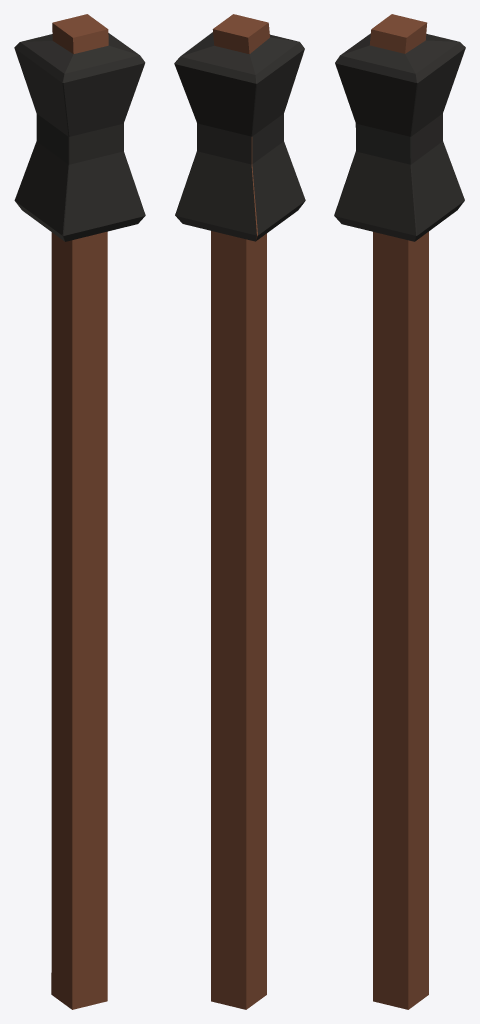
File: artillery_ramrot.fbx
3 views of the same model, side by side, from view 1: azimuth 30°, elevation 25°; view 2: azimuth 150°, elevation 25°; view 3: azimuth 330°, elevation 25° (orthographic).
Visible parts, largest first — view 1: artillety_ramrod; view 2: artillety_ramrod; view 3: artillety_ramrod.
Boxes of the visible parts, x1,y1,x2,y2 form: artillety_ramrod: [14, 14, 145, 1009]; artillety_ramrod: [174, 14, 305, 1009]; artillety_ramrod: [334, 14, 465, 1009].
Bounding box in the file's own units: 26.36 × 293 × 27.
